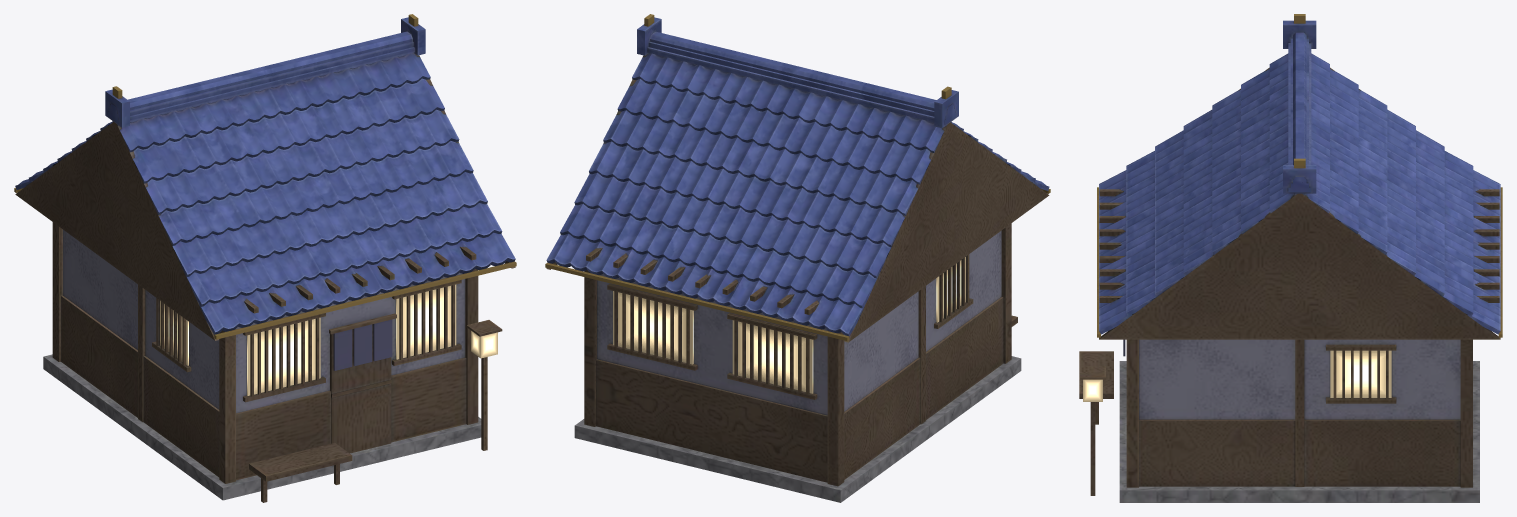
The model's file is k_machiya_a.glb.
3 views of the same model, side by side, from view 1: azimuth 30°, elevation 25°; view 2: azimuth 150°, elevation 25°; view 3: azimuth 270°, elevation 25° (orthographic).
Parts seen in each view (by area): view 1: k_machiya_a; view 2: k_machiya_a; view 3: k_machiya_a.
Part boxes in pixels (x1,y1,x2,y2): k_machiya_a: [14, 14, 516, 502]; k_machiya_a: [545, 14, 1050, 502]; k_machiya_a: [1079, 14, 1502, 502].
Size of the model in its own units: 4.59 by 5.05 by 5.52.
Materials: 2 (1 with a texture image).
